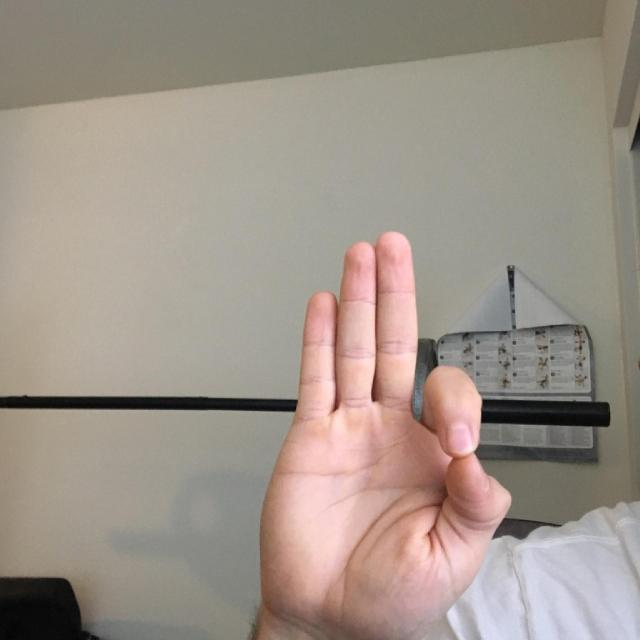F: (247, 145, 538, 640)
